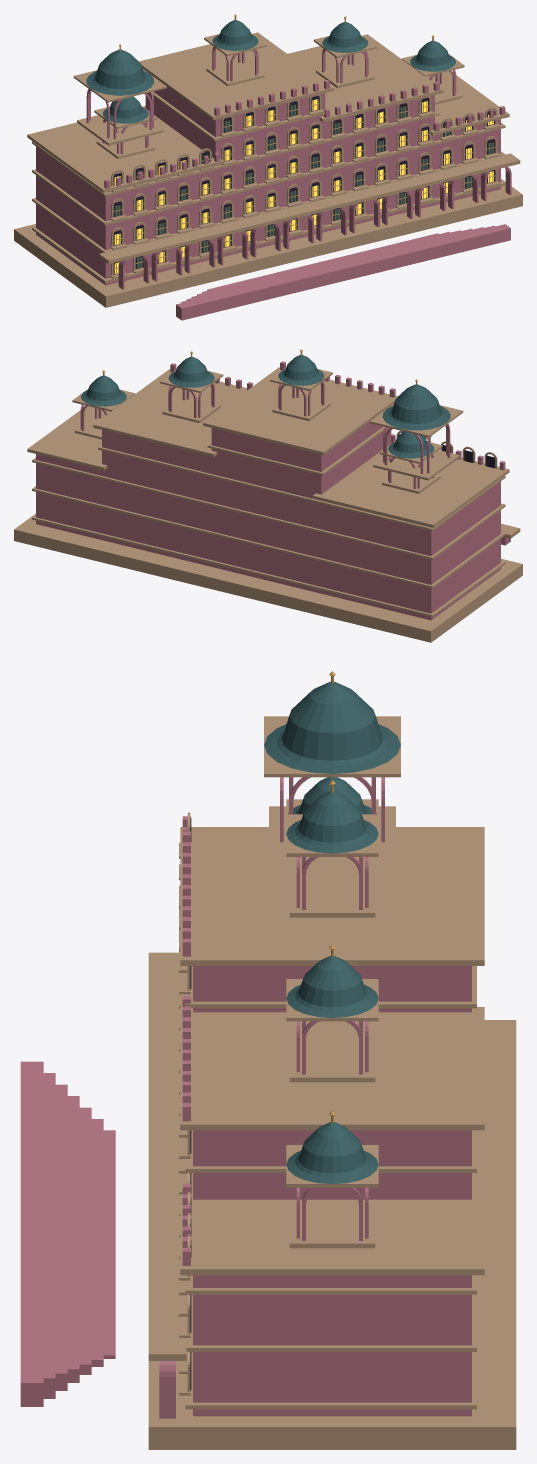
The model's file is moon_palace.glb.
3 views of the same model, one above another, from view 1: azimuth 30°, elevation 25°; view 2: azimuth 150°, elevation 25°; view 3: azimuth 270°, elevation 25° (orthographic). The views are drawn at different scales.
Parts seen in each view (by area): view 1: moon_palace Moonlit brass limestone, moon_palace Rose sandstone, moon_palace Night patinated domes, moon_palace Deep recessed arch, moon_palace Amber glass, moon_palace Brass finials; view 2: moon_palace Rose sandstone, moon_palace Moonlit brass limestone, moon_palace Night patinated domes; view 3: moon_palace Moonlit brass limestone, moon_palace Rose sandstone, moon_palace Night patinated domes.
Part boxes in pixels (bbox=[...]): moon_palace Moonlit brass limestone: bbox=[14, 32, 522, 307]; moon_palace Rose sandstone: bbox=[36, 47, 511, 320]; moon_palace Night patinated domes: bbox=[86, 20, 493, 268]; moon_palace Deep recessed arch: bbox=[113, 95, 494, 274]; moon_palace Amber glass: bbox=[114, 99, 493, 273]; moon_palace Brass finials: bbox=[113, 14, 495, 274]; moon_palace Rose sandstone: bbox=[36, 361, 510, 620]; moon_palace Moonlit brass limestone: bbox=[14, 367, 522, 642]; moon_palace Night patinated domes: bbox=[81, 355, 450, 458]; moon_palace Moonlit brass limestone: bbox=[148, 716, 516, 1449]; moon_palace Rose sandstone: bbox=[20, 777, 471, 1418]; moon_palace Night patinated domes: bbox=[264, 681, 400, 1183].
Bounding box in the file's own units: 76 × 37.81 × 39.1.
